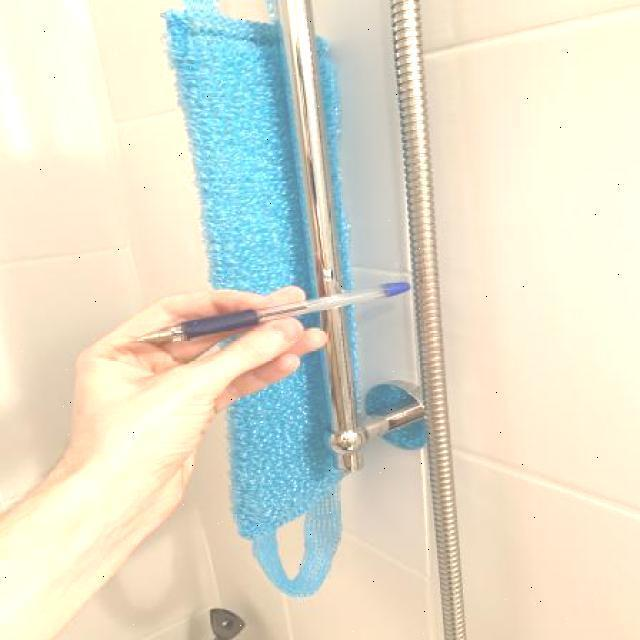pen: (134, 280, 414, 347)
